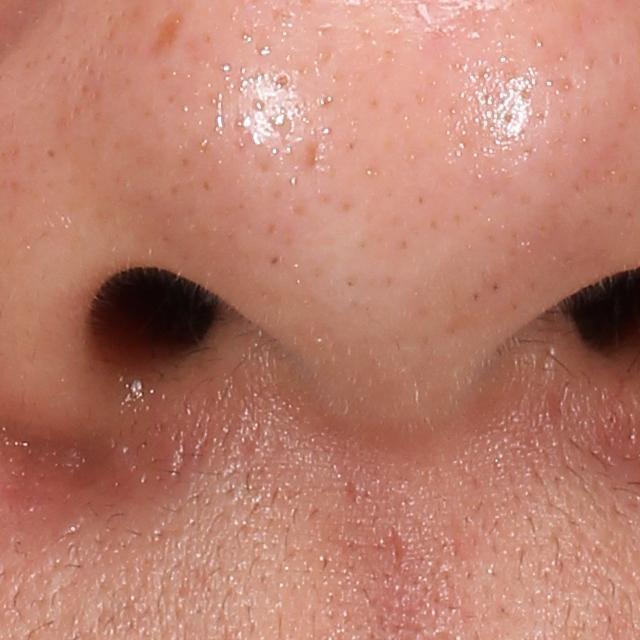melasma: (153, 9, 185, 52)
